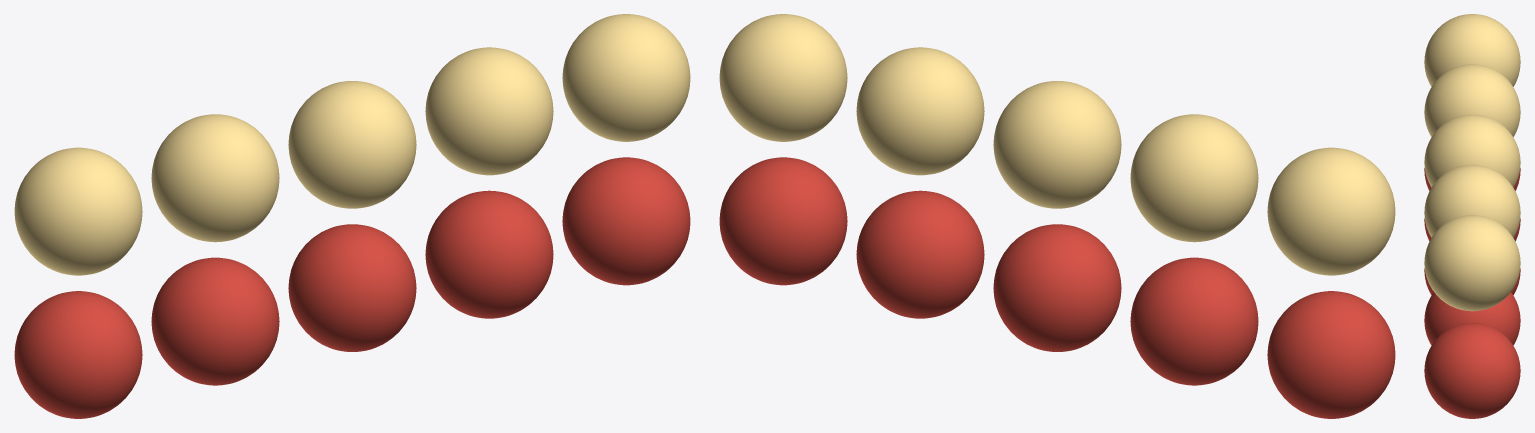
The model's file is pbr_swatches.gltf.
The picture shows the model from 3 angles, left to right: view 1: azimuth 30°, elevation 25°; view 2: azimuth 150°, elevation 25°; view 3: azimuth 270°, elevation 25°; orthographic projection. The views are drawn at different scales.
Visible parts, largest first — view 1: gold_1, gold_2, plastic_2, plastic_3, gold_3, plastic_1, gold_0, gold_4, plastic_0, plastic_4; view 2: gold_1, gold_2, plastic_2, plastic_3, gold_3, plastic_1, gold_0, gold_4, plastic_0, plastic_4; view 3: gold_4, plastic_4, gold_0, gold_1, gold_2, gold_3, plastic_3, plastic_2, plastic_0, plastic_1.
Part boxes in pixels (<box>): gold_1: <box>151,114,279,242</box>; gold_2: <box>288,81,416,208</box>; plastic_2: <box>288,224,416,351</box>; plastic_3: <box>425,190,553,318</box>; gold_3: <box>425,47,553,175</box>; plastic_1: <box>151,257,279,385</box>; gold_0: <box>14,147,142,275</box>; gold_4: <box>562,14,690,141</box>; plastic_0: <box>14,291,142,418</box>; plastic_4: <box>562,157,690,285</box>; gold_1: <box>1130,114,1258,242</box>; gold_2: <box>993,81,1121,208</box>; plastic_2: <box>993,224,1121,351</box>; plastic_3: <box>856,190,984,318</box>; gold_3: <box>856,47,984,175</box>; plastic_1: <box>1130,257,1258,385</box>; gold_0: <box>1267,147,1395,275</box>; gold_4: <box>719,14,847,141</box>; plastic_0: <box>1267,291,1395,418</box>; plastic_4: <box>719,157,847,285</box>; gold_4: <box>1424,215,1520,311</box>; plastic_4: <box>1424,322,1520,418</box>; gold_0: <box>1424,14,1520,86</box>; gold_1: <box>1424,64,1520,136</box>; gold_2: <box>1424,114,1520,187</box>; gold_3: <box>1424,164,1520,237</box>; plastic_3: <box>1424,292,1520,345</box>; plastic_2: <box>1424,269,1520,294</box>; plastic_0: <box>1424,168,1520,190</box>; plastic_1: <box>1424,218,1520,241</box>.
Size of the model in its own units: 2.02 by 0.76 by 0.34.
